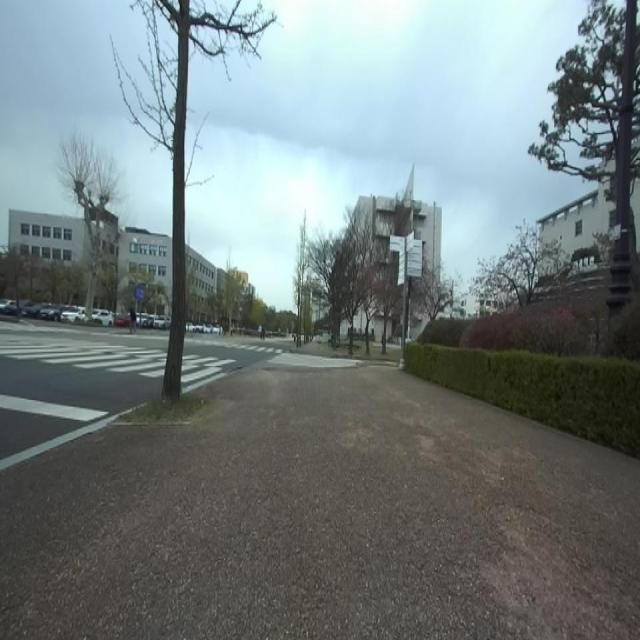sidewalk: (0, 364, 640, 639), (0, 415, 119, 470)
